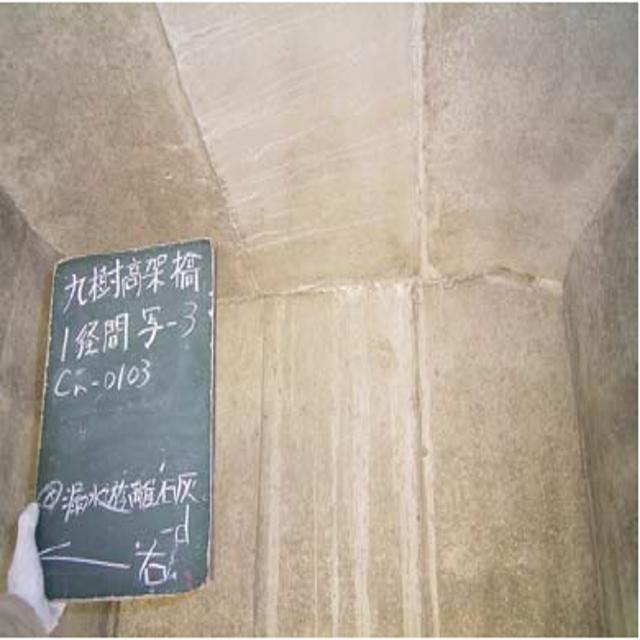freelime: (312, 256, 417, 623)
